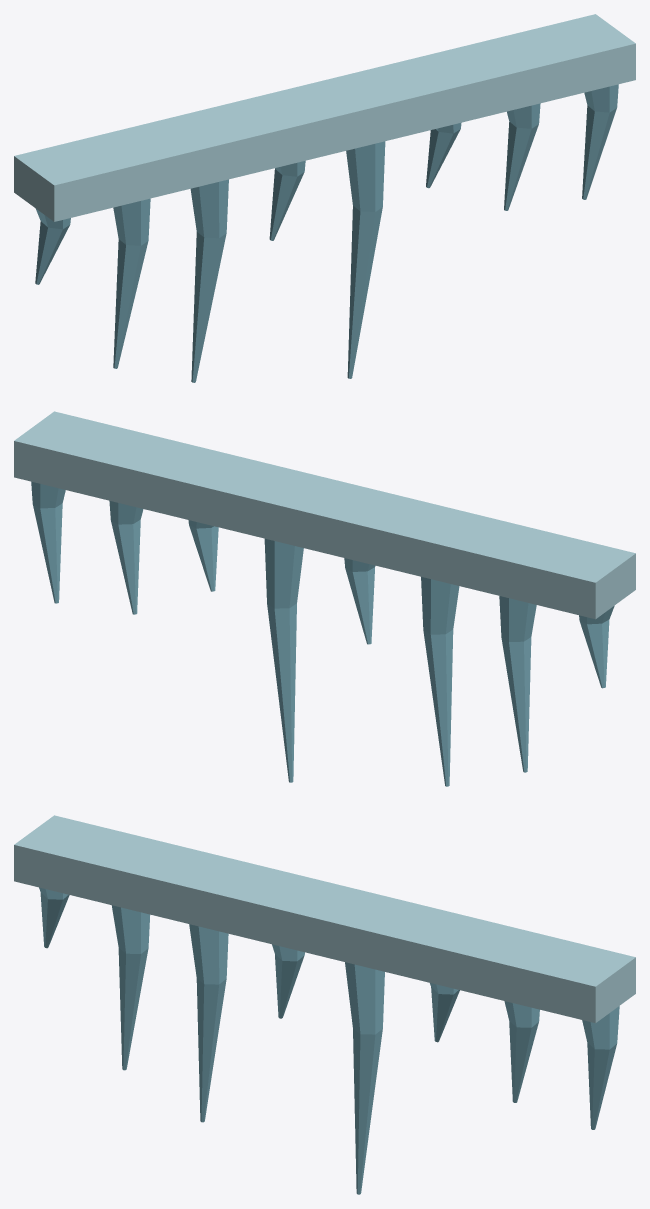
Rendered from FROST_02_ClusterMedium.glb.
3 renders of one model, top to bottom at view 1: azimuth 30°, elevation 25°; view 2: azimuth 150°, elevation 25°; view 3: azimuth 330°, elevation 25°, orthographic.
Parts seen in each view (by area): view 1: FROST_02_ClusterMedium; view 2: FROST_02_ClusterMedium; view 3: FROST_02_ClusterMedium.
Boxes of the visible parts, x1,y1,x2,y2 form: FROST_02_ClusterMedium: [14, 14, 635, 382]; FROST_02_ClusterMedium: [14, 411, 635, 786]; FROST_02_ClusterMedium: [14, 815, 635, 1194].
Bounding box in the file's own units: 1.5 × 0.7118 × 0.18.
